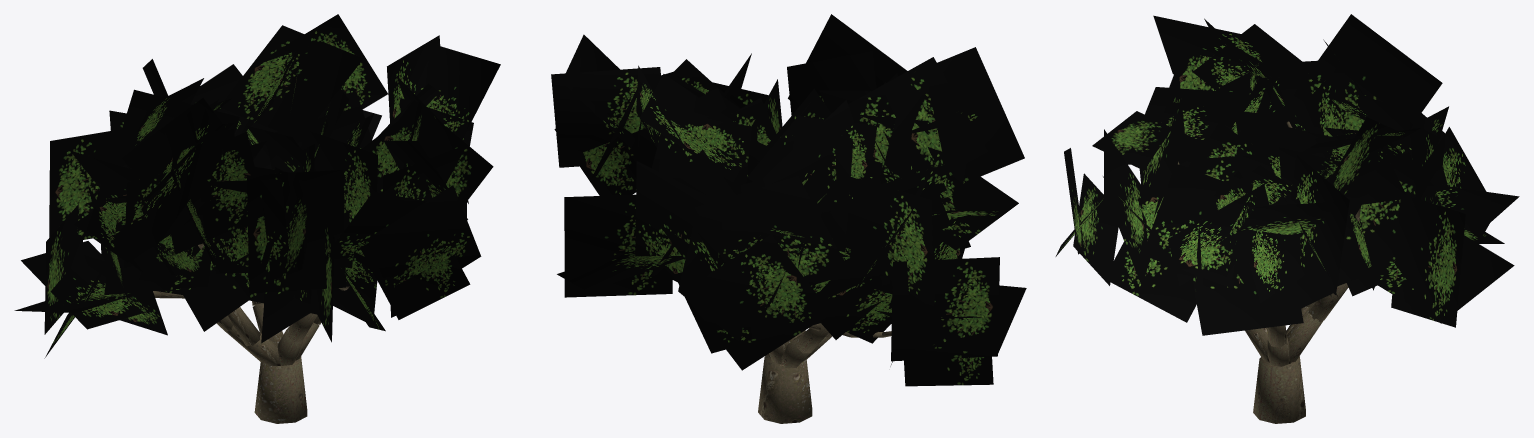
File: zelkova.glb
The picture shows the model from 3 angles, left to right: view 1: azimuth 30°, elevation 25°; view 2: azimuth 150°, elevation 25°; view 3: azimuth 270°, elevation 25°; orthographic projection. The views are drawn at different scales.
Parts seen in each view (by area): view 1: leaves, bark; view 2: leaves, bark; view 3: leaves, bark.
Boxes of the visible parts, x1,y1,x2,y2 form: leaves: (14,14,500,358); bark: (153,243,349,423); leaves: (551,14,1026,386); bark: (758,323,891,423); leaves: (1055,14,1519,335); bark: (1147,121,1360,423).
Size of the model in its own units: 10.4 by 7.86 by 9.39.
Materials: 2 (2 with a texture image).
